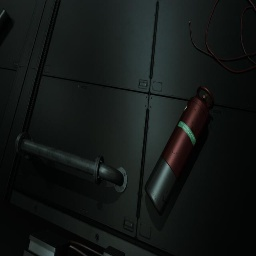NitrogenTank ,: (144, 86, 214, 216)
